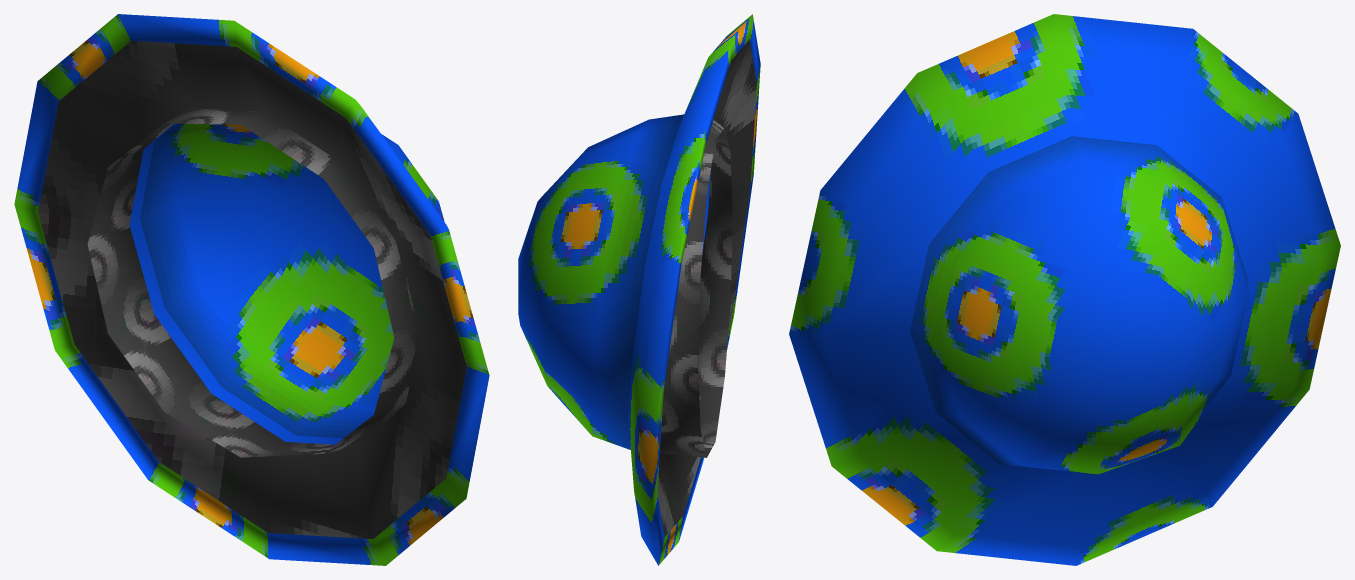
Rendered from cap_hat_grace.dae.
3 views of the same model, side by side, from view 1: azimuth 30°, elevation 25°; view 2: azimuth 150°, elevation 25°; view 3: azimuth 270°, elevation 25° (orthographic). The views are drawn at different scales.
Visible parts, largest first — view 1: cap_hat_grace; view 2: cap_hat_grace; view 3: cap_hat_grace.
Part boxes in pixels (x1,y1,x2,y2): cap_hat_grace: (14, 14, 489, 565); cap_hat_grace: (518, 14, 760, 565); cap_hat_grace: (789, 14, 1340, 565).
Size of the model in its own units: 18.19 by 35.46 by 33.45.
Materials: 2 (2 with a texture image).
